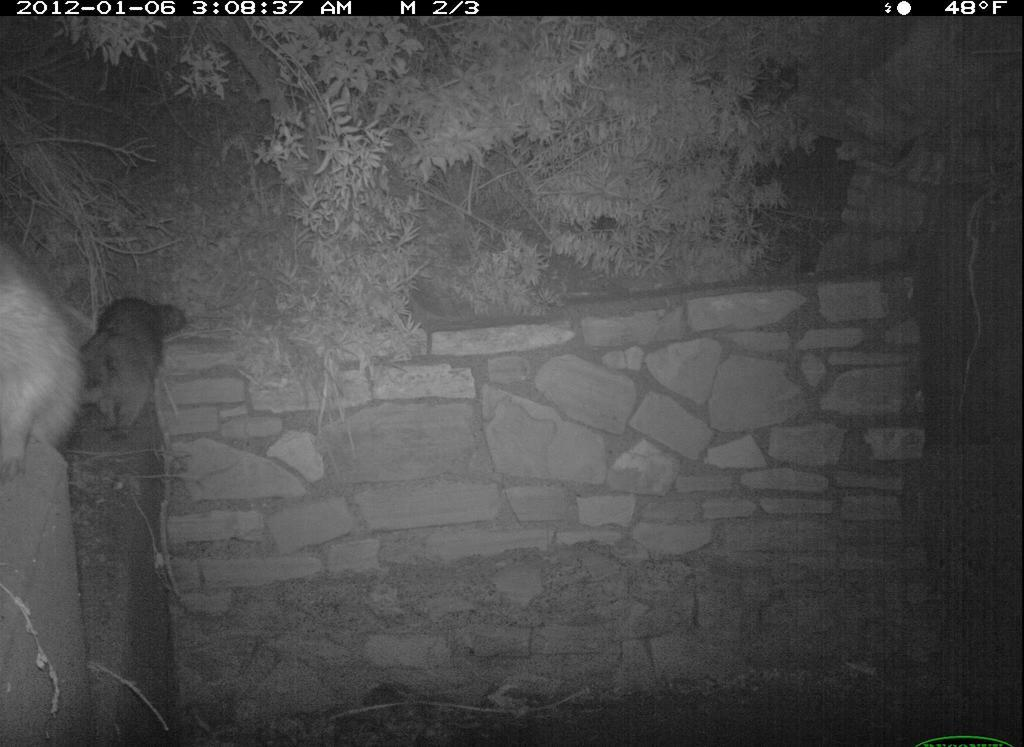raccoon: (1, 237, 81, 502), (66, 277, 191, 440)
